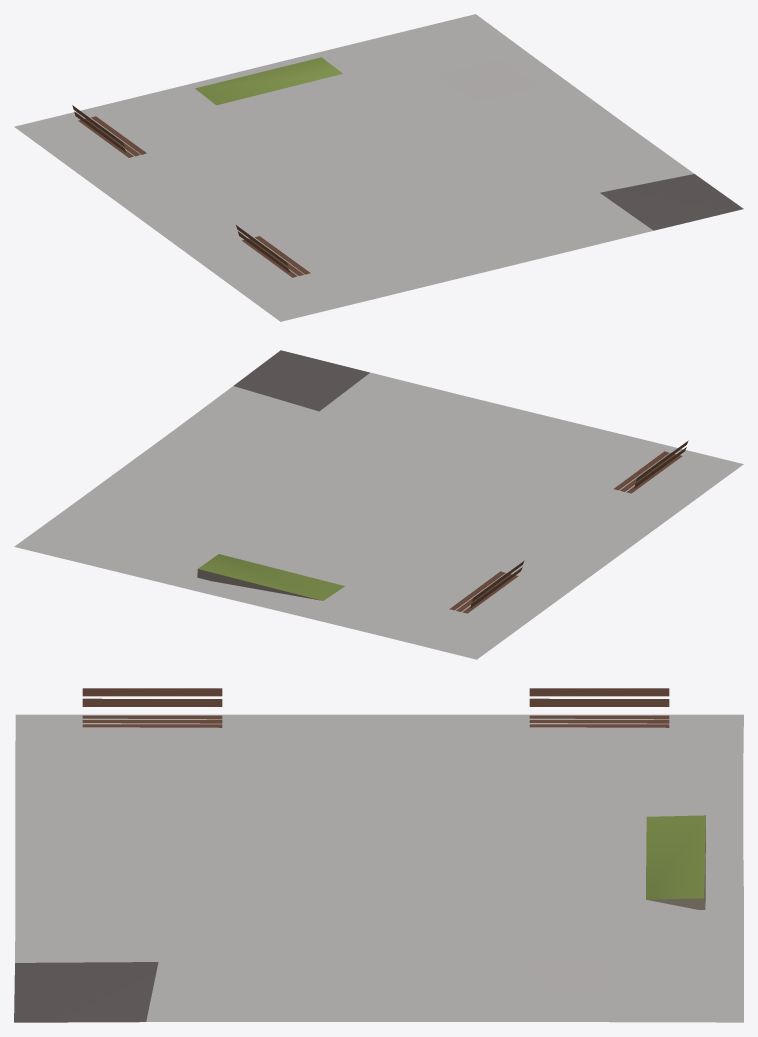
Rendered from QmYh9BVjtGnjkxsXDNFthm2Wr37mcARCcwhY1SniqY6Job_lod2.fbx.
3 views of the same model, one above another, from view 1: azimuth 30°, elevation 25°; view 2: azimuth 150°, elevation 25°; view 3: azimuth 270°, elevation 25° (orthographic). The views are drawn at different scales.
Visible parts, largest first — view 1: Entity_512; view 2: Entity_512; view 3: Entity_512.
Part boxes in pixels (<box>): Entity_512: <box>14,14,743,321</box>; Entity_512: <box>14,350,743,659</box>; Entity_512: <box>14,688,743,1022</box>.
Size of the model in its own units: 15910 by 1157 by 15910.
Materials: 1 (1 with a texture image).
